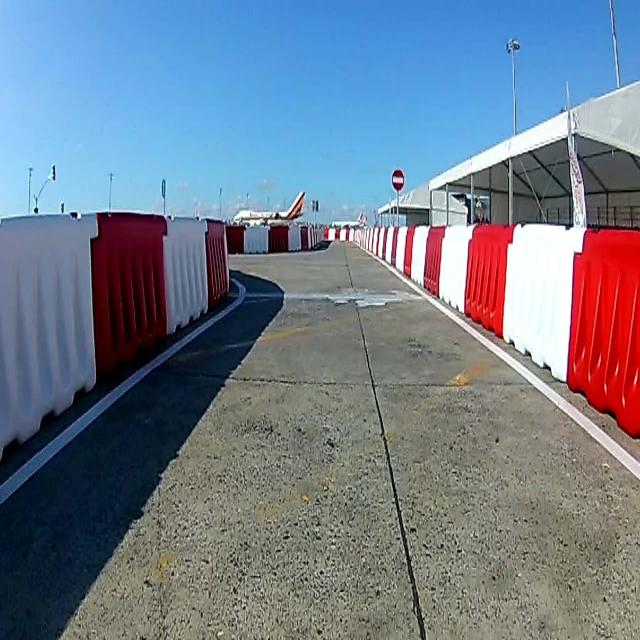girisyok: (392, 167, 406, 191)
